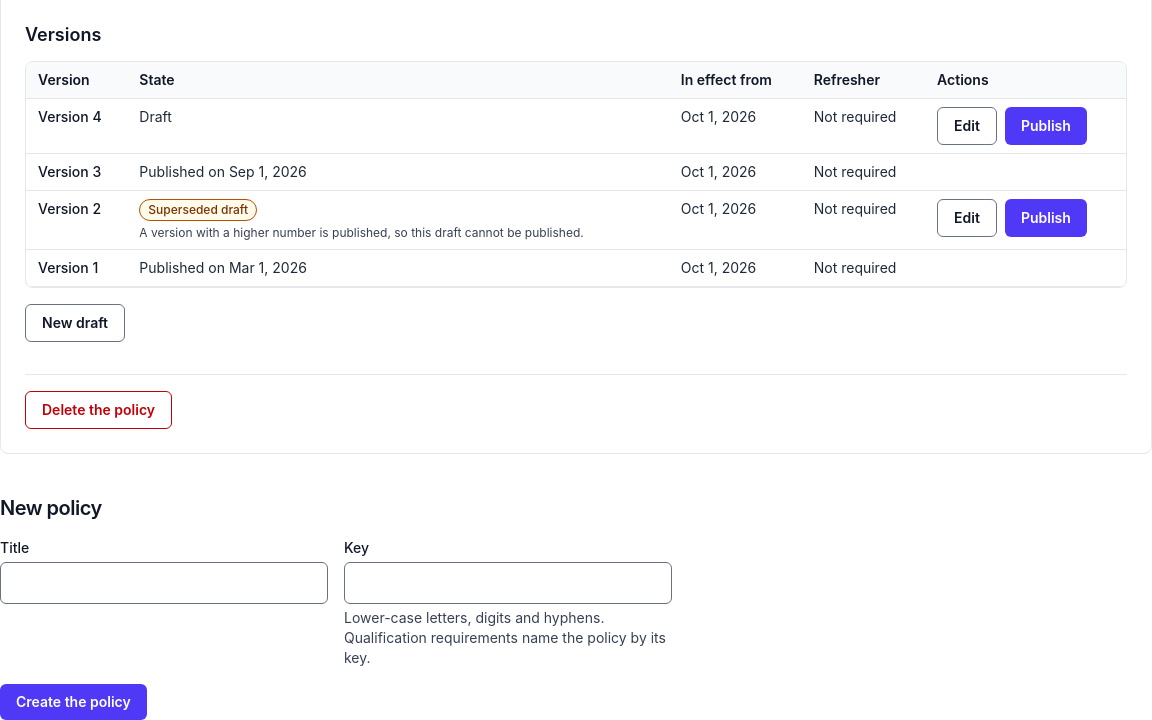
an open policy › shows the 409 policy_in_use of a deletion and deletes a policy of drafts
The width and height of the screenshot is (1152, 720).
(page scrolled)
Click the button "Delete the policy".
click(98, 410)  # box [25, 391, 172, 429]
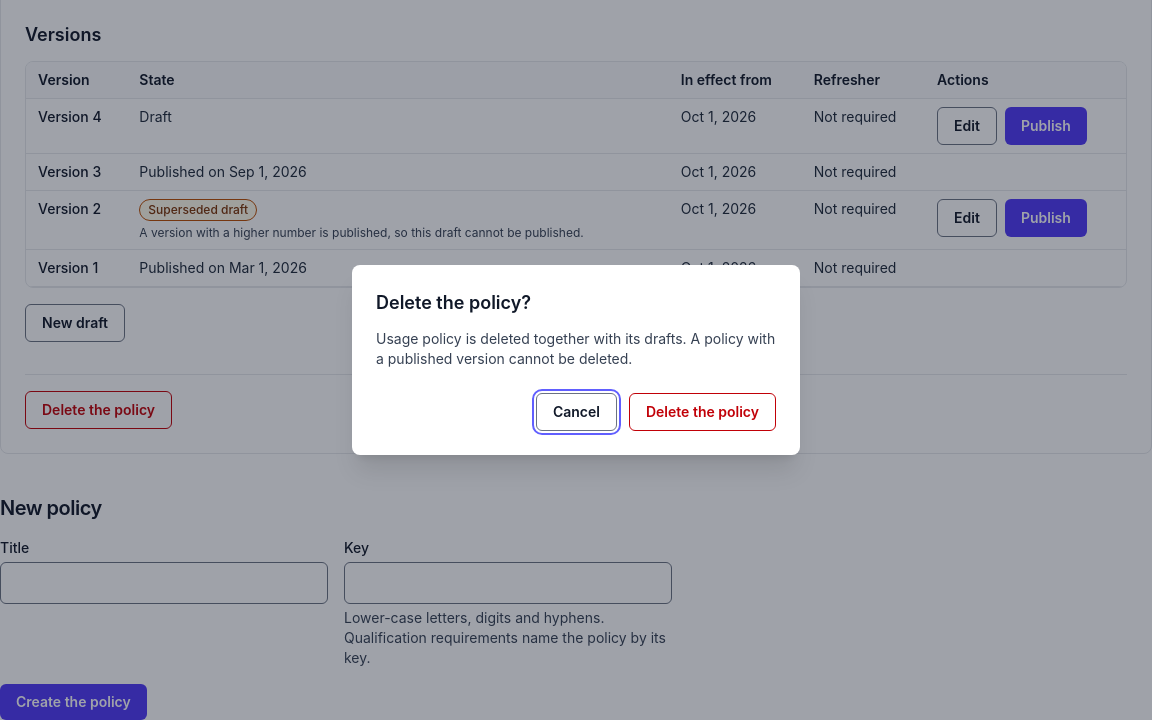
Click the button "Delete the policy".
click(702, 412)  # box [629, 393, 776, 431]
(page scrolled)
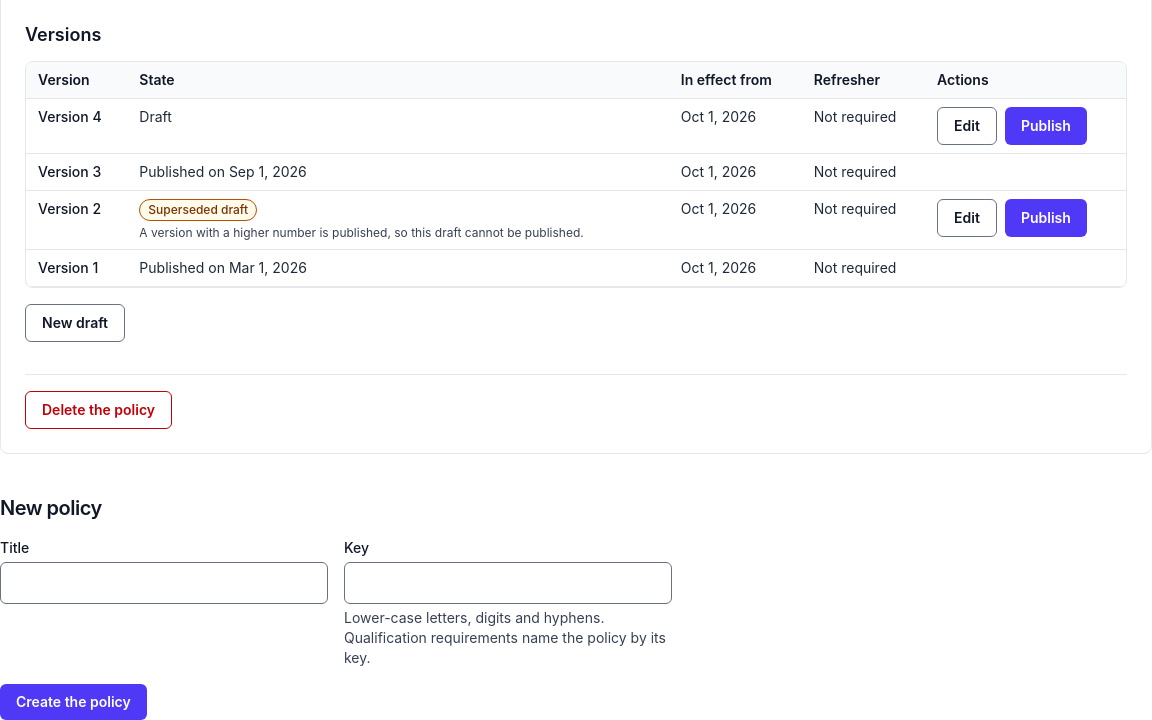
Click the button "Delete the policy".
click(98, 410)  # box [25, 391, 172, 429]
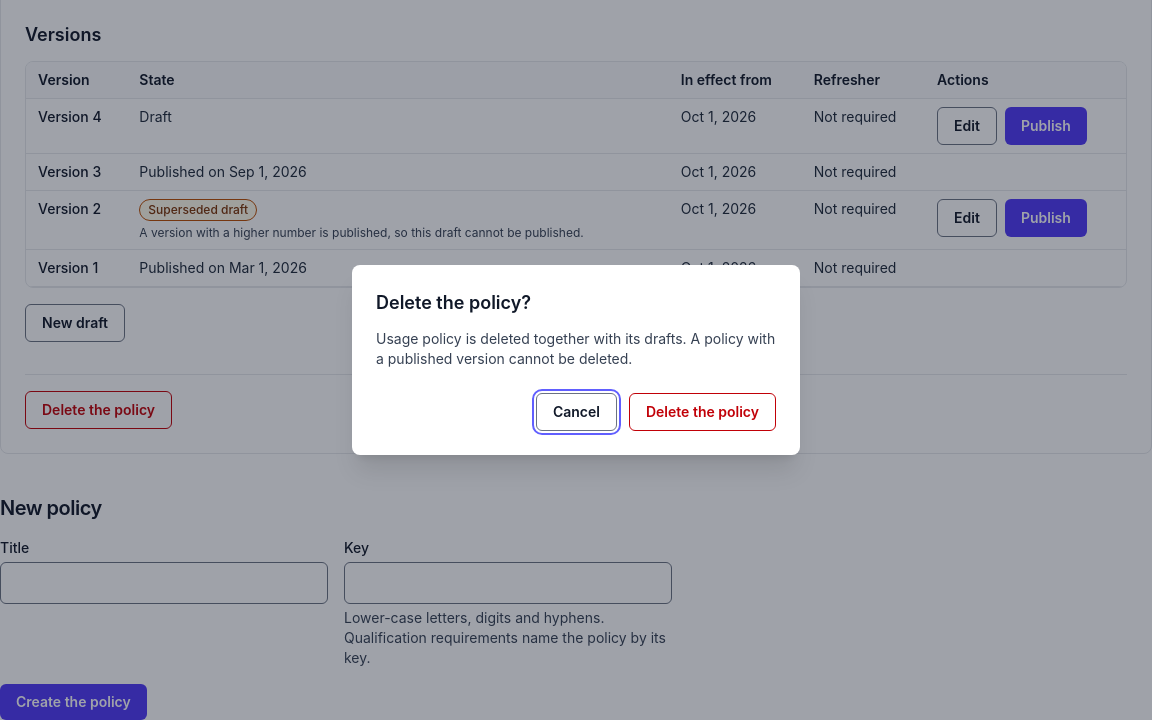
Click the button "Delete the policy".
click(702, 412)  # box [629, 393, 776, 431]
(page scrolled)
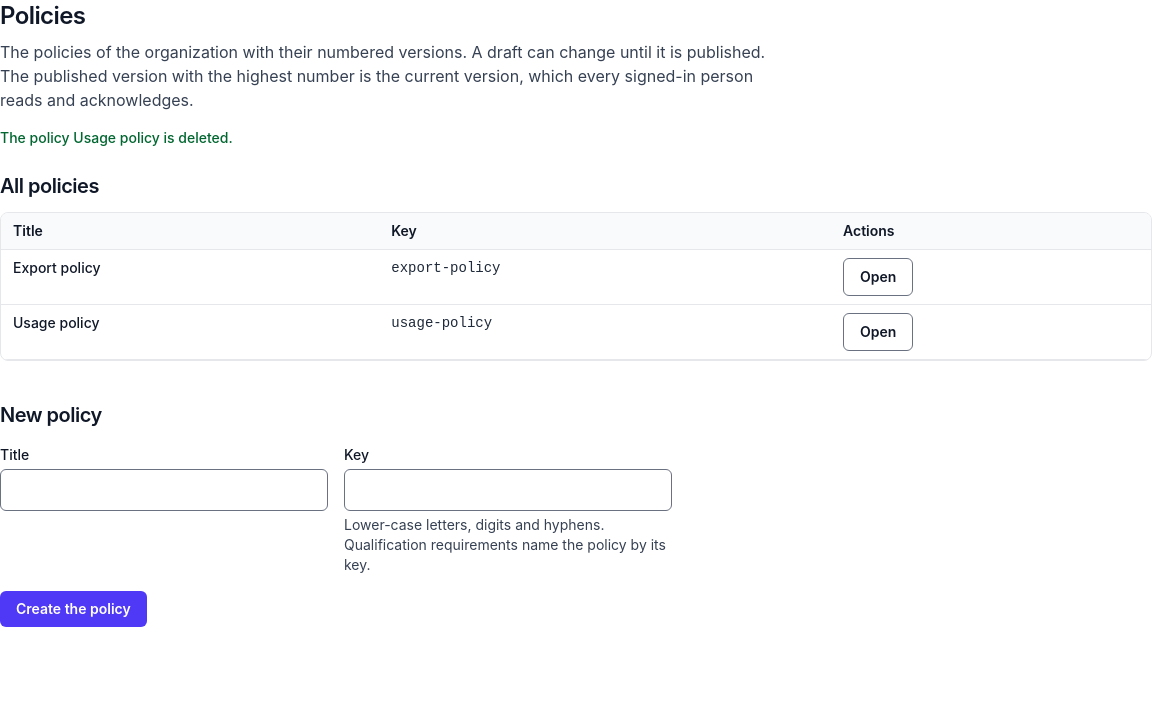
Result: the text "The policy Usage policy is deleted." is shown at [0, 129, 233, 146]
